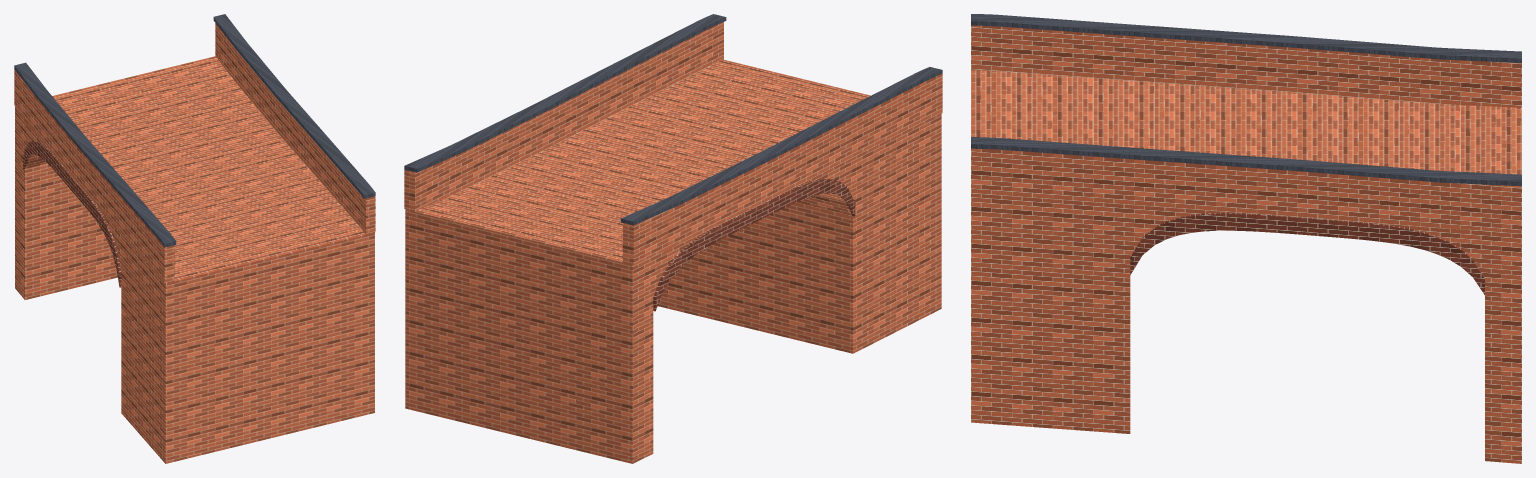
File: bridge-1.glb
The picture shows the model from 3 angles, left to right: view 1: azimuth 30°, elevation 25°; view 2: azimuth 150°, elevation 25°; view 3: azimuth 270°, elevation 25°; orthographic projection. The views are drawn at different scales.
Visible parts, largest first — view 1: Masonry, Parapet.001, ArchRing; view 2: Masonry, Parapet.001, ArchRing; view 3: Masonry, Parapet.001, ArchRing.
Part boxes in pixels (<box>): Masonry: <box>14,23,375,463</box>; Parapet.001: <box>14,14,375,247</box>; ArchRing: <box>23,141,121,287</box>; Masonry: <box>404,22,942,463</box>; Parapet.001: <box>404,14,942,225</box>; ArchRing: <box>653,178,855,311</box>; Masonry: <box>971,25,1521,463</box>; Parapet.001: <box>971,14,1521,186</box>; ArchRing: <box>1130,213,1484,294</box>.
Size of the model in its own units: 9.96 by 7.64 by 13.5.
Materials: 3 (3 with a texture image).
